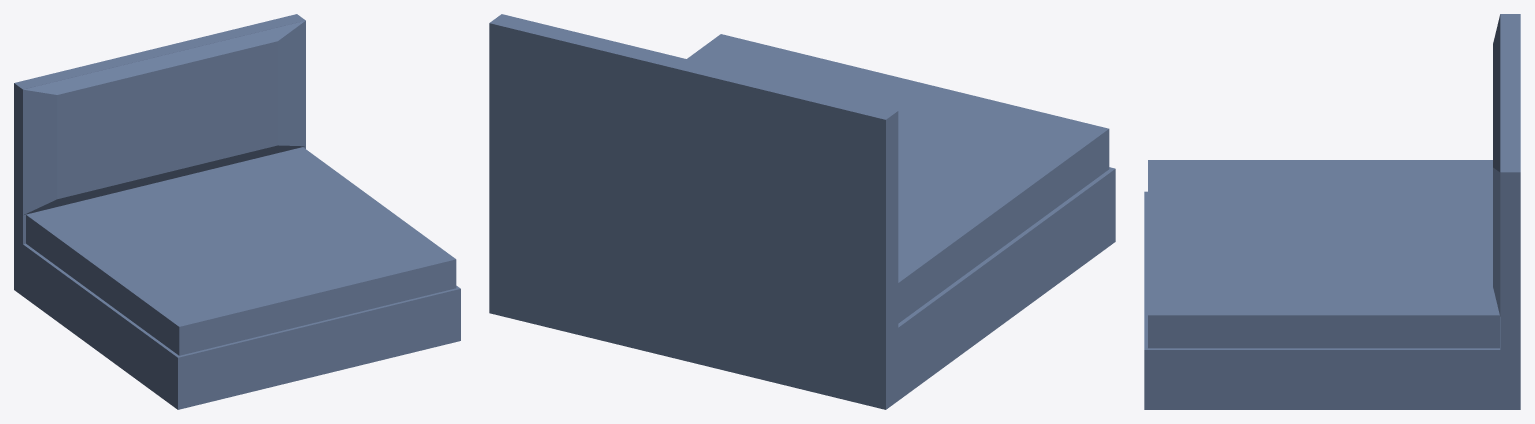
The model's file is Bed_large_2038_2045_1422.fbx.
The picture shows the model from 3 angles, left to right: view 1: azimuth 30°, elevation 25°; view 2: azimuth 150°, elevation 25°; view 3: azimuth 270°, elevation 25°; orthographic projection. The views are drawn at different scales.
Visible parts, largest first — view 1: Bed_large_2038_2045_1422; view 2: Bed_large_2038_2045_1422; view 3: Bed_large_2038_2045_1422.
Boxes of the visible parts, x1=… form: Bed_large_2038_2045_1422: x1=14, y1=14, x2=460, y2=409; Bed_large_2038_2045_1422: x1=489, y1=14, x2=1115, y2=409; Bed_large_2038_2045_1422: x1=1144, y1=14, x2=1520, y2=409.
Size of the model in its own units: 204 by 142 by 205.
